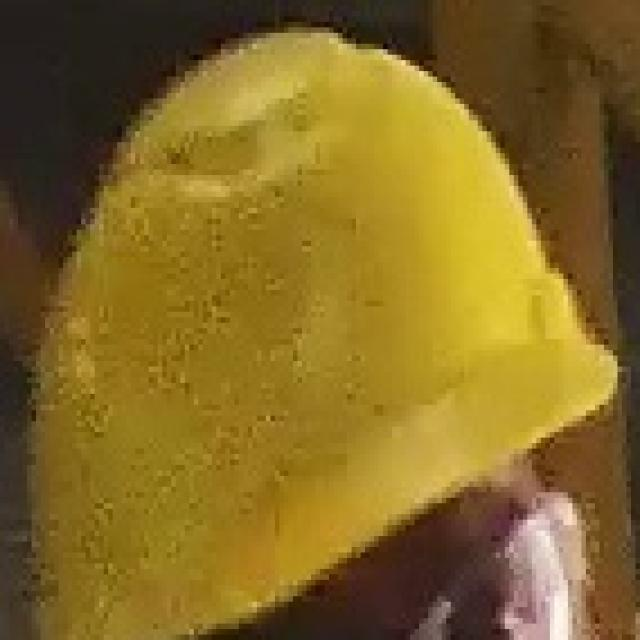yellow helmet: (23, 16, 591, 640)
